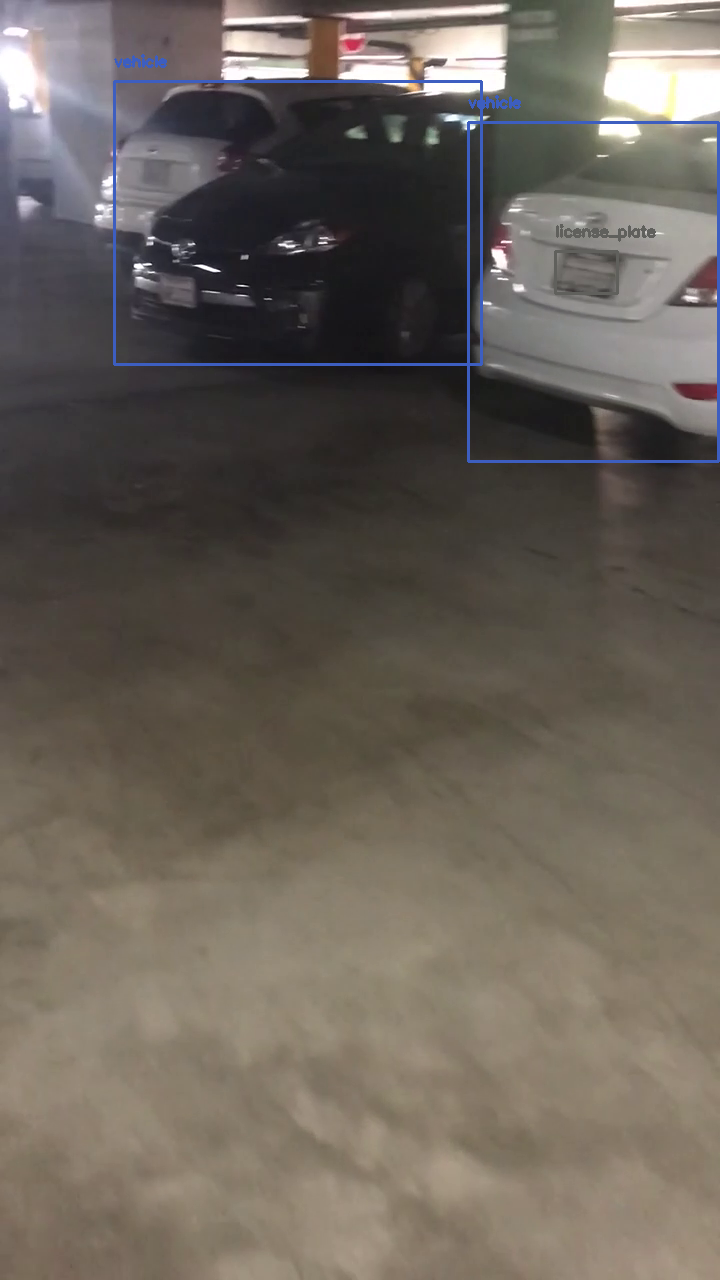license_plate: (555, 251, 617, 293)
vehicle: (114, 81, 481, 364), (468, 122, 718, 461)
